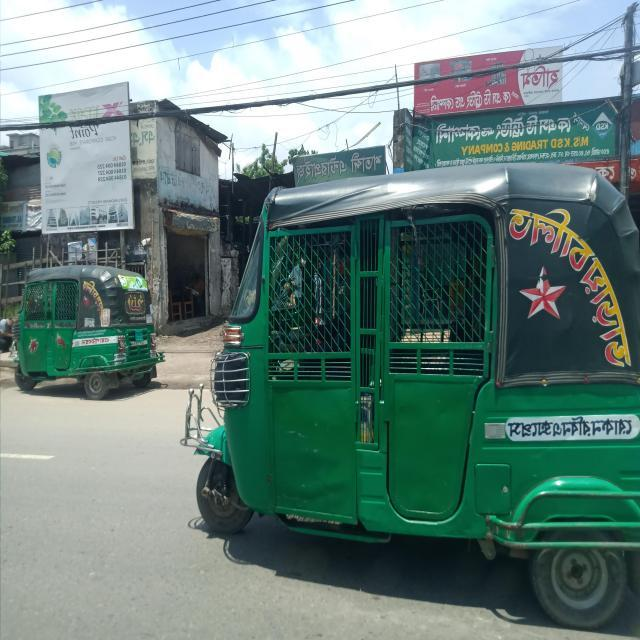CNG: (170, 165, 640, 625), (6, 259, 178, 413)
